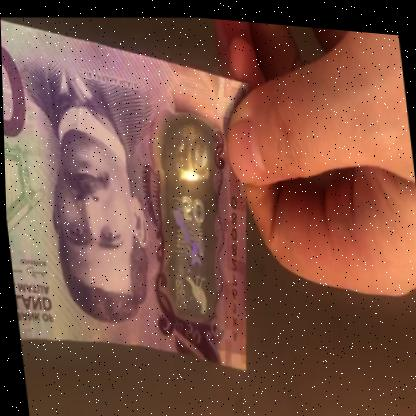50F: (153, 119, 225, 319)
